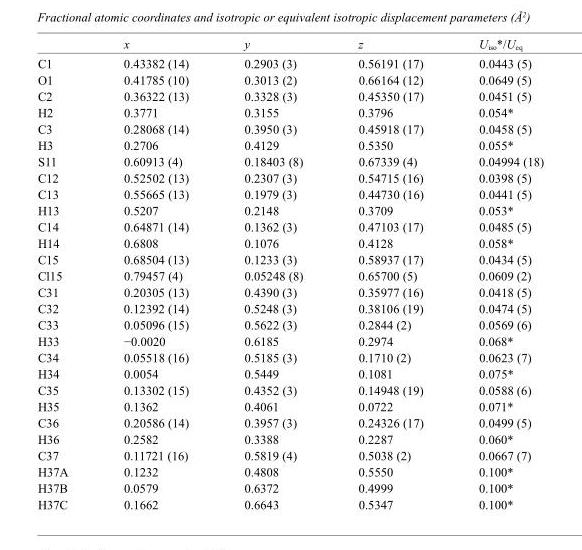table: (36, 36, 543, 510)
table column: (329, 36, 450, 510), (95, 36, 215, 510), (215, 36, 329, 510), (450, 36, 543, 510), (36, 36, 95, 510)
table column header: (36, 36, 543, 53)
table row: (36, 53, 543, 71), (36, 36, 543, 53), (36, 87, 543, 104), (36, 136, 543, 153), (36, 185, 543, 202), (36, 234, 543, 251), (36, 283, 543, 300), (36, 332, 543, 349), (36, 381, 543, 398), (36, 430, 543, 447), (36, 479, 543, 496), (36, 71, 543, 87), (36, 104, 543, 120), (36, 120, 543, 136), (36, 153, 543, 169), (36, 169, 543, 185), (36, 202, 543, 218), (36, 218, 543, 234), (36, 251, 543, 267), (36, 267, 543, 283), (36, 300, 543, 316), (36, 316, 543, 332), (36, 349, 543, 365), (36, 365, 543, 381), (36, 398, 543, 414), (36, 414, 543, 430), (36, 447, 543, 463), (36, 463, 543, 479), (36, 496, 543, 510)
